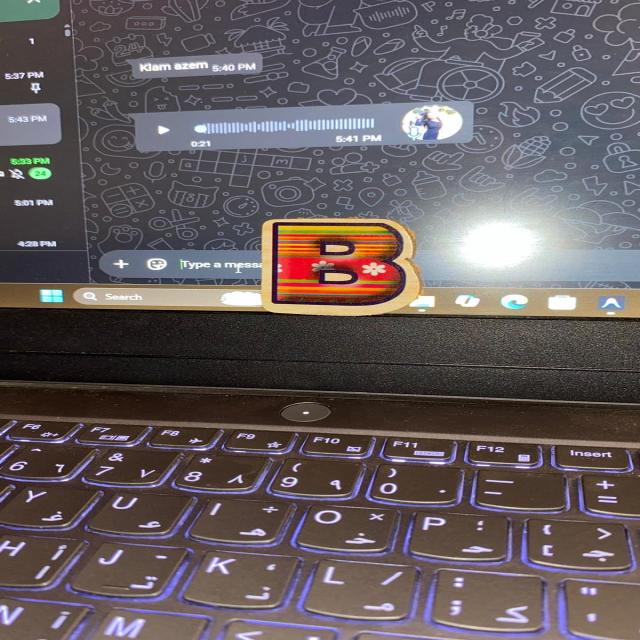B: (261, 219, 420, 316)
